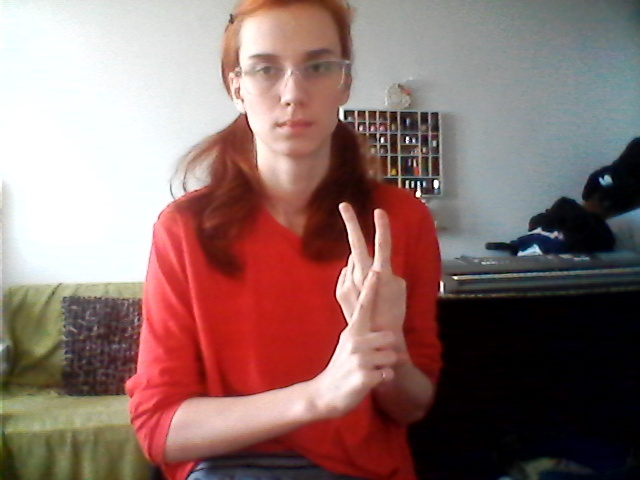y: (313, 198, 422, 415)
